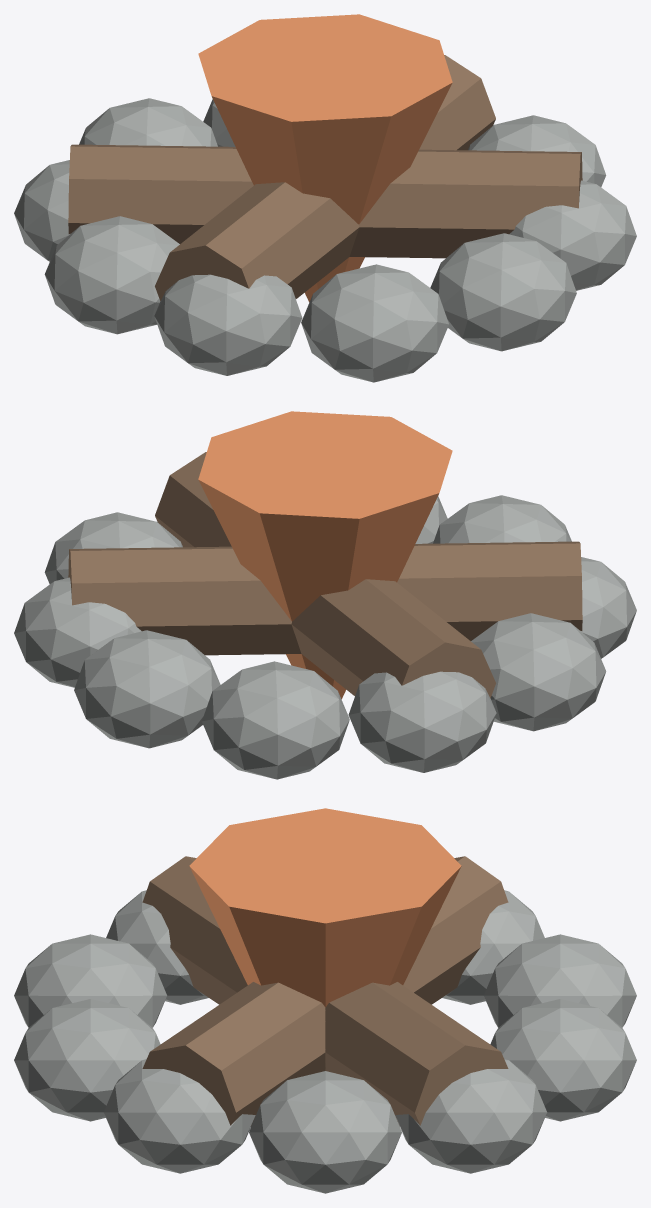
Rendered from campfire.glb.
The picture shows the model from 3 angles, top to bottom: view 1: azimuth 30°, elevation 25°; view 2: azimuth 150°, elevation 25°; view 3: azimuth 270°, elevation 25°; orthographic projection. The views are drawn at different scales.
Visible parts, largest first — view 1: campfire_1, campfire_0, campfire_2; view 2: campfire_1, campfire_0, campfire_2; view 3: campfire_1, campfire_0, campfire_2.
Part boxes in pixels (<box>): campfire_1: <box>14,98,636,382</box>; campfire_0: <box>68,55,582,300</box>; campfire_2: <box>198,14,452,302</box>; campfire_1: <box>14,495,636,779</box>; campfire_0: <box>68,452,582,697</box>; campfire_2: <box>198,411,452,699</box>; campfire_1: <box>14,890,636,1193</box>; campfire_0: <box>142,856,508,1125</box>; campfire_2: <box>189,808,461,1007</box>.
Bounding box in the file's own units: 0.76 × 0.36 × 0.7316.
